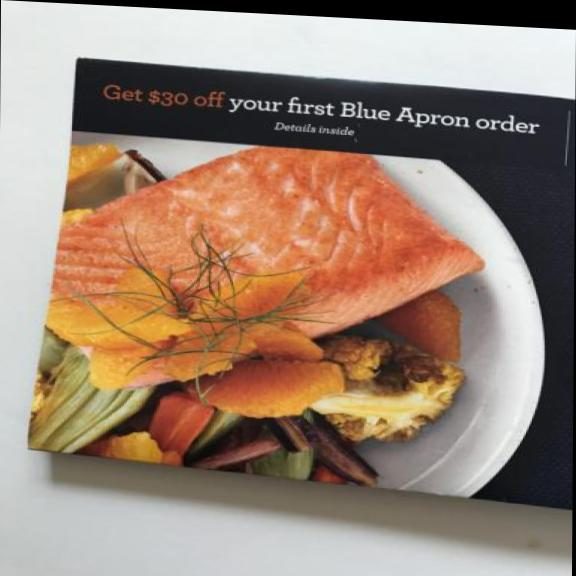Kertas: (23, 48, 576, 512)
